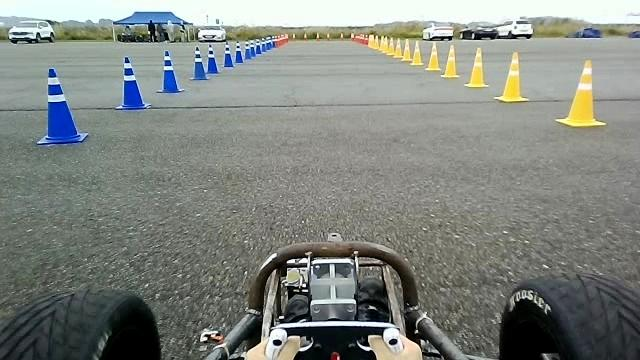blue cone: (36, 67, 88, 145), (114, 55, 151, 110), (155, 50, 184, 93), (189, 45, 209, 80), (205, 43, 220, 74), (223, 41, 234, 67), (234, 40, 244, 63)
yellow cone: (555, 59, 606, 127), (493, 51, 528, 102), (464, 46, 489, 87), (440, 44, 459, 78), (425, 41, 441, 71), (409, 39, 423, 65), (400, 38, 412, 62), (393, 37, 403, 58)
